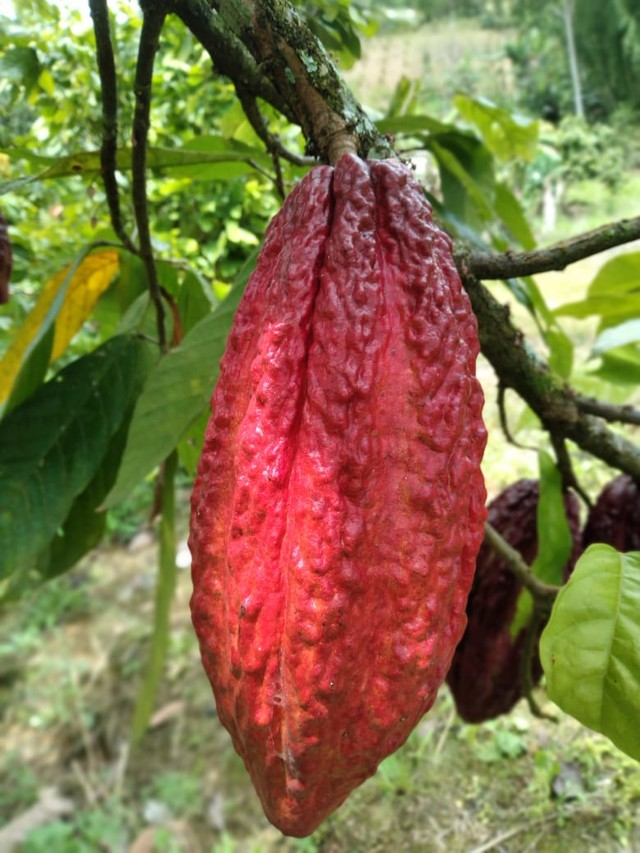Health: (181, 156, 496, 839)
